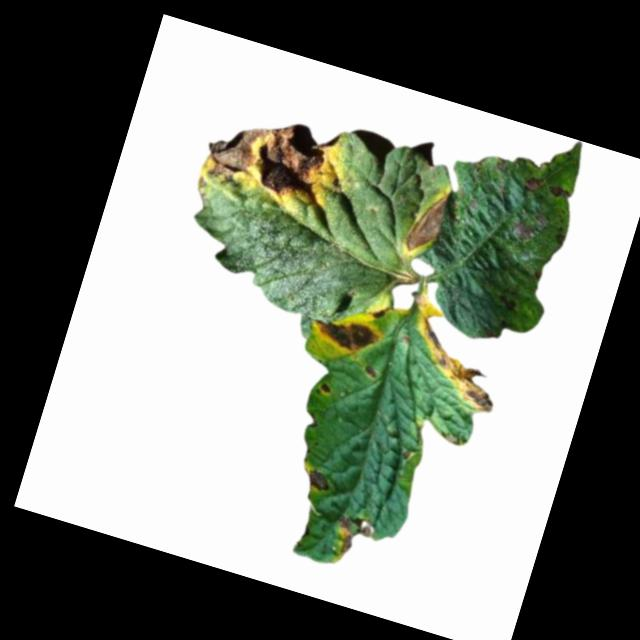Early_blight: (198, 97, 355, 217), (393, 290, 526, 418), (403, 183, 452, 258), (309, 309, 379, 358), (328, 509, 379, 564), (305, 465, 335, 493), (523, 173, 549, 195), (549, 182, 574, 200), (361, 362, 381, 381), (318, 381, 334, 395)
